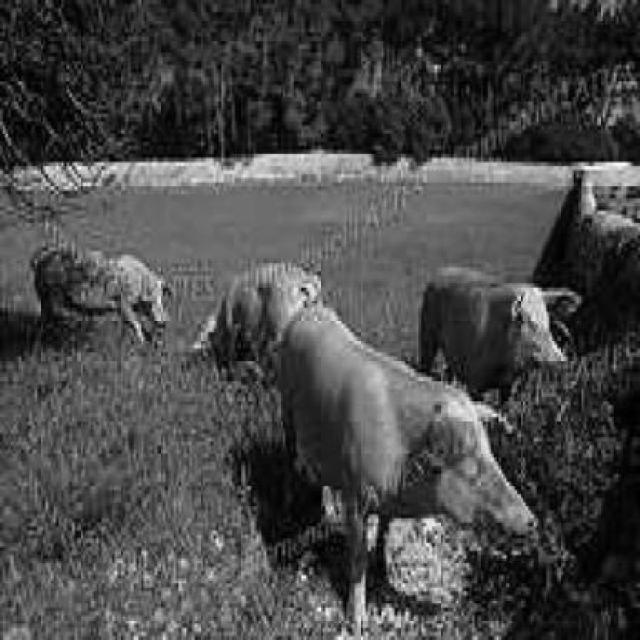Boar: (232, 302, 560, 602), (392, 224, 588, 398), (0, 226, 197, 371)
